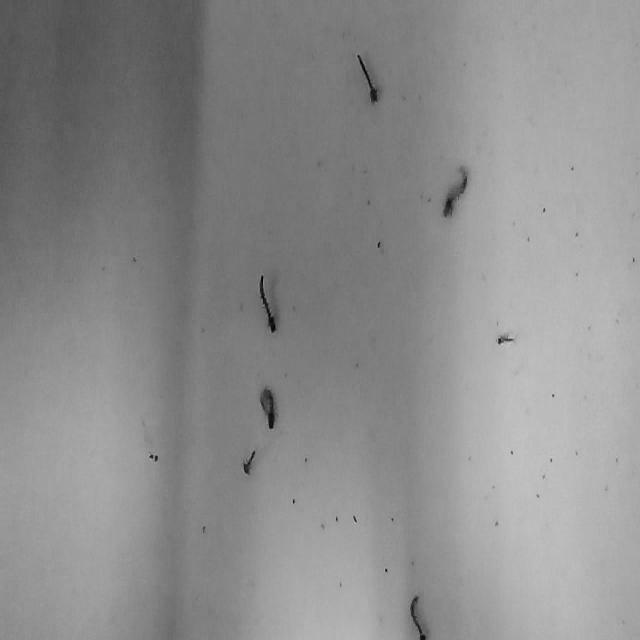larvas: (258, 271, 279, 334), (442, 166, 468, 214), (356, 52, 378, 104), (258, 384, 276, 430), (408, 593, 426, 639), (242, 448, 255, 476), (496, 332, 517, 344)
